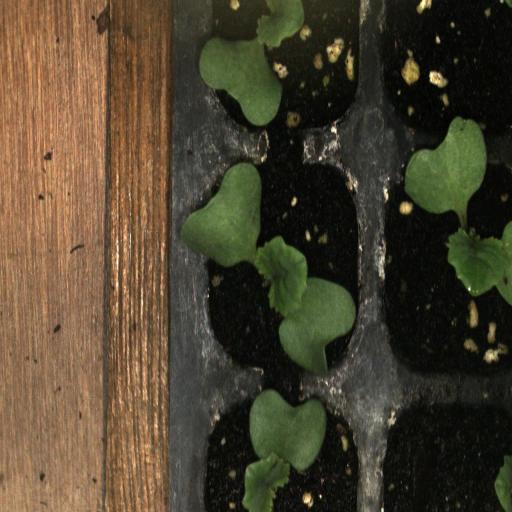noseedling: (371, 0, 512, 157)
seedling: (195, 153, 370, 379), (368, 153, 512, 386), (194, 0, 370, 153), (198, 381, 369, 512)
